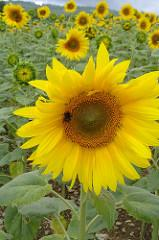sunflower: (23, 47, 159, 192), (55, 29, 90, 59), (1, 2, 28, 28), (94, 1, 111, 19), (76, 10, 92, 26), (135, 17, 151, 32), (119, 5, 135, 19), (34, 6, 51, 19), (146, 30, 159, 47), (63, 0, 77, 11)
